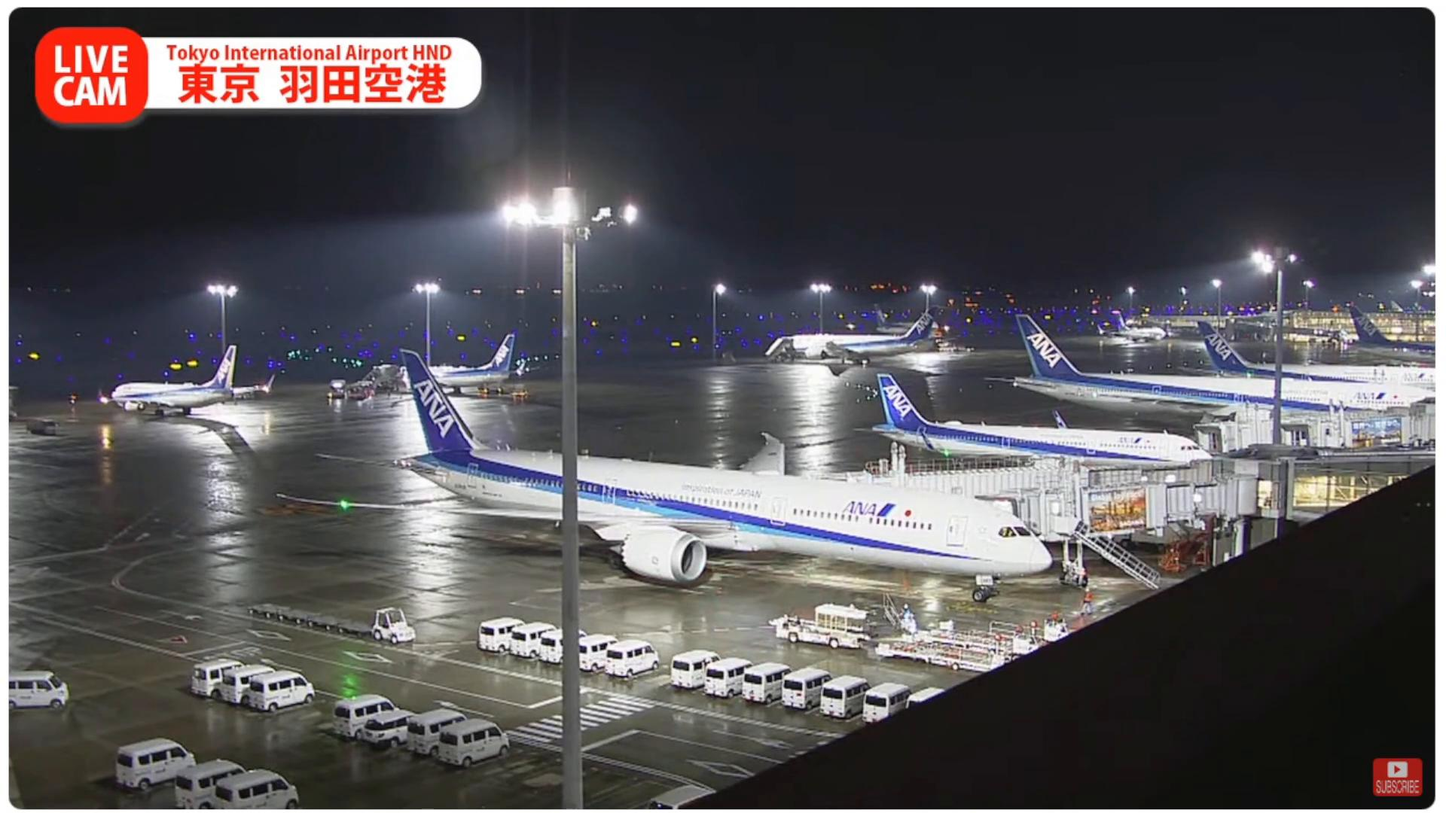Aerobridge: (899, 456, 1284, 502), (991, 479, 1253, 538)
Airplane: (292, 349, 1056, 588)
Dolly: (245, 598, 374, 641)
JCPL: (872, 630, 1012, 673), (906, 626, 1042, 654)
Skyloader: (764, 593, 892, 655)
Tractor: (371, 604, 422, 649)
Window: (1290, 451, 1437, 524)
